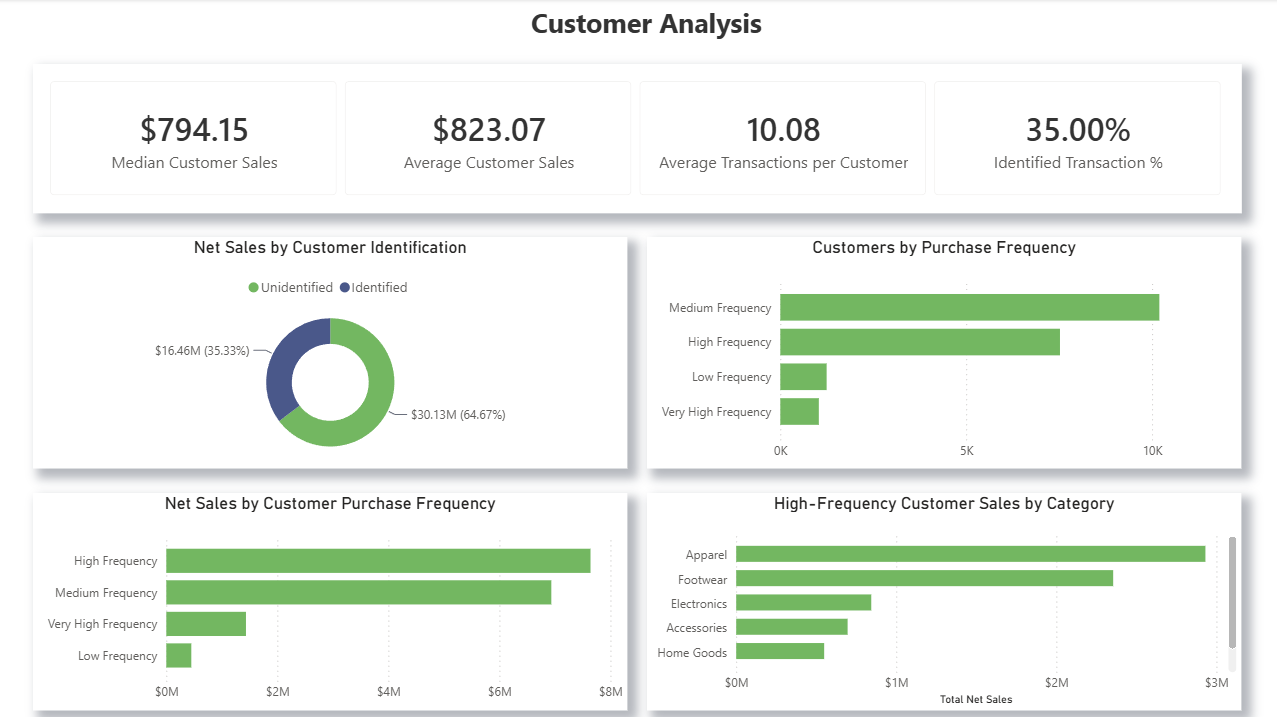

The page's visual inventory and layout, read from the dashboard file:
{"tool":"powerbi","page":{"name":"Customer Analysis","canvas":[1280,720],"ordinal":2},"visuals":[{"type":"donutChart","title":"Net Sales by Customer Identification","fields":{"Category":["fact_transactions.Customer Type"],"Y":["Measures Table.Total Net Sales"]},"box":[34.1,237.5,593.1,231.4],"z":0},{"type":"clusteredBarChart","title":"Net Sales by Customer Purchase Frequency","fields":{"Category":["dim_customer_frequency.frequency_classification"],"Y":["Measures Table.Total Net Sales"]},"box":[34.1,493.2,593.1,216.8],"z":1000},{"type":"clusteredBarChart","title":"Customers by Purchase Frequency","fields":{"Category":["dim_customer_frequency.frequency_classification"],"Y":["Count(dim_customer_frequency.customer_id)"]},"box":[646.7,237.5,593.1,231.4],"z":2000},{"type":"cardVisual","fields":{"Data":["Measures Table.Median Customer Sales","Measures Table.Average Customer Sales","Measures Table.Average Transactions per Customer","Measures Table.Identified Transaction %"]},"box":[34.1,64.5,1205.7,148.6],"z":3000},{"type":"clusteredBarChart","title":"High-Frequency Customer Sales by Category","fields":{"Category":["dim_category.category"],"Y":["Measures Table.Total Net Sales"]},"box":[646.7,493.2,593.1,216.8],"z":3001},{"type":"textbox","box":[12.2,0,1267.8,49.9],"z":3002}]}

Visuals, with their boxes in screenshot pixels (x1, y1, x2, y2), scaled from the page's 1280x720 canvas onto the 1277x717 screenshot:
"Net Sales by Customer Identification" donutChart: Rect(34, 237, 626, 467)
"Net Sales by Customer Purchase Frequency" clusteredBarChart: Rect(34, 491, 626, 707)
"Customers by Purchase Frequency" clusteredBarChart: Rect(645, 237, 1237, 467)
cardVisual - Measures Table.Median Customer Sales x Measures Table.Average Customer Sales: Rect(34, 64, 1237, 212)
"High-Frequency Customer Sales by Category" clusteredBarChart: Rect(645, 491, 1237, 707)
textbox: Rect(12, 0, 1276, 50)
